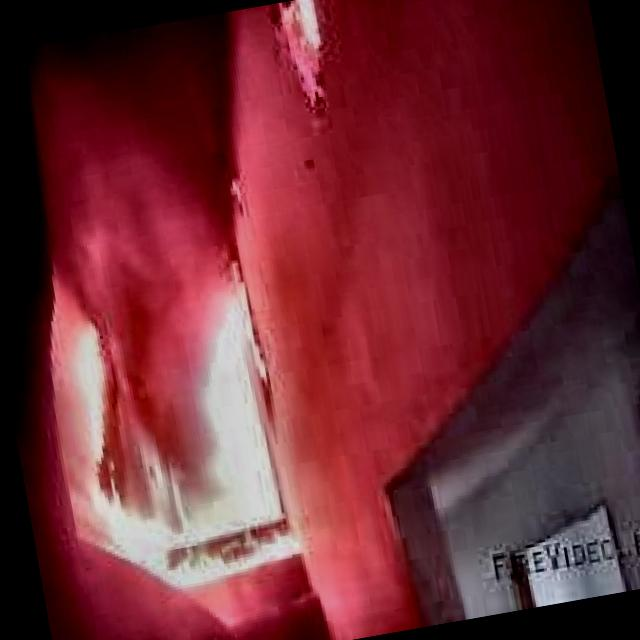fire: (39, 260, 308, 594)
